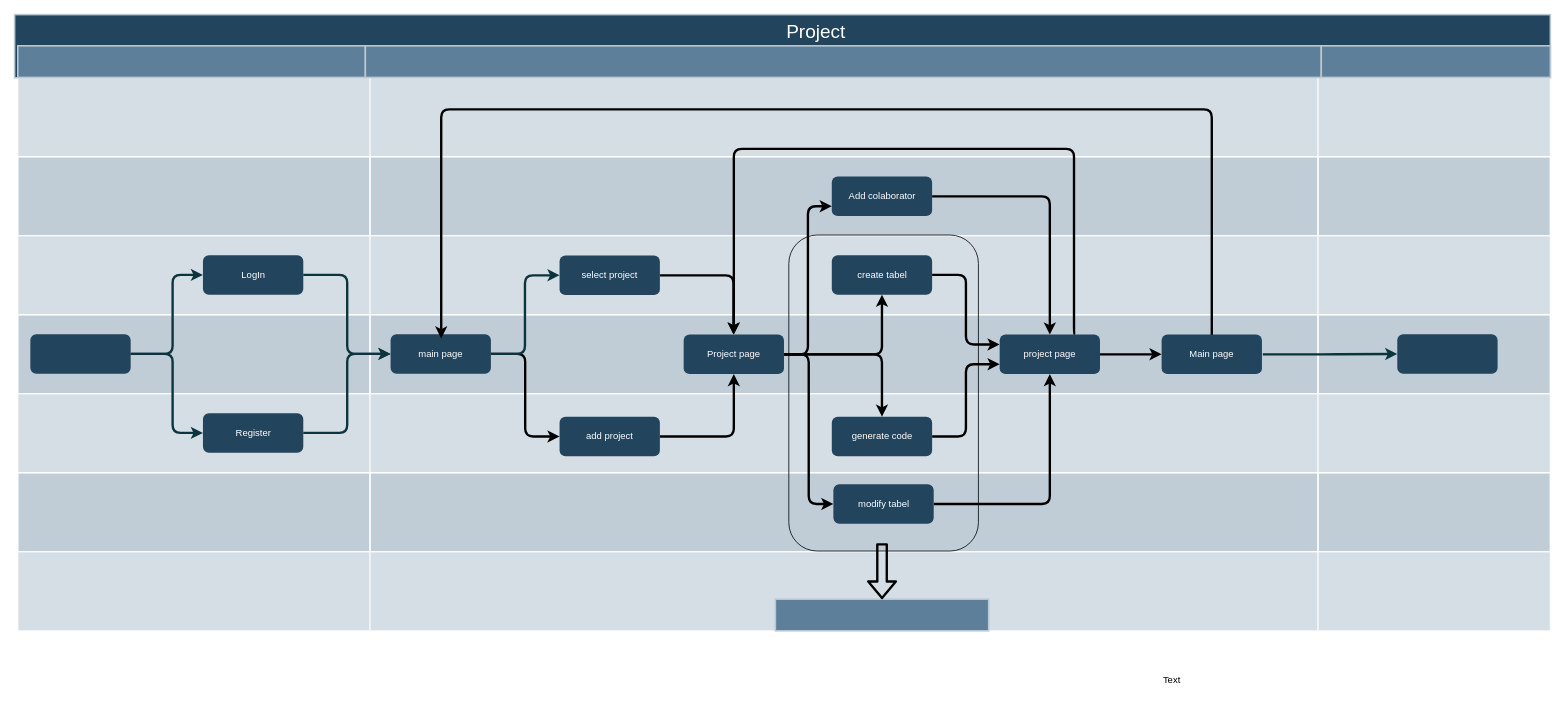
Some shapes in this 1564 by 701 pixel diagram are drawn without their labels. The centre of each missing label's shape, as x and y in pixels:
Acceseaza website: (80,353)
logout: (1447,353)
Microserviciul Project Management: (843,61)
Microserviciul Update: (881,614)
Microserviucul Account Management: (191,61)
Microserviul Account Managment: (1435,61)
